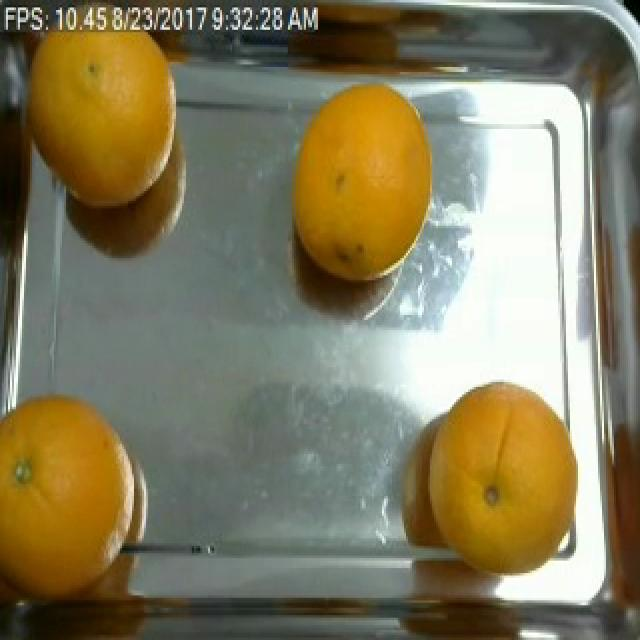Fruit: (0, 10, 190, 241), (270, 72, 444, 285)
